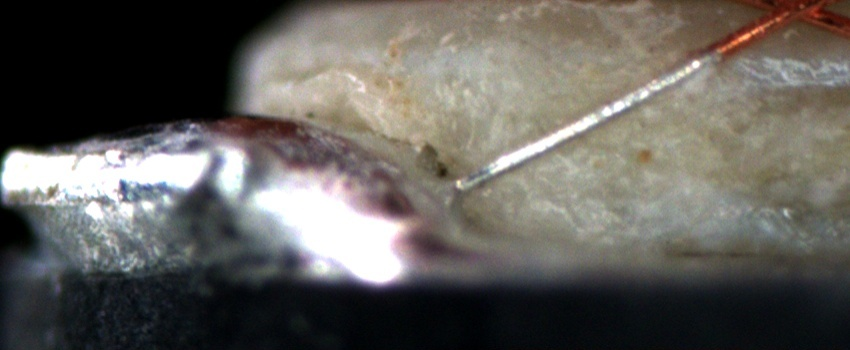CL: (749, 1, 833, 31)
DL: (592, 39, 850, 74)
TS: (453, 53, 712, 194)
